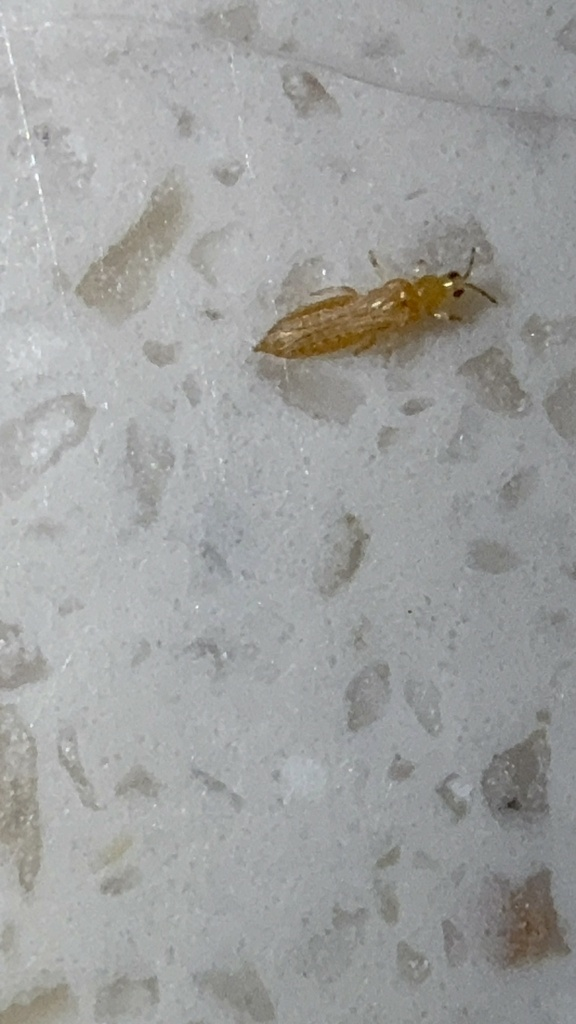tiny_pests: (209, 183, 537, 434)
